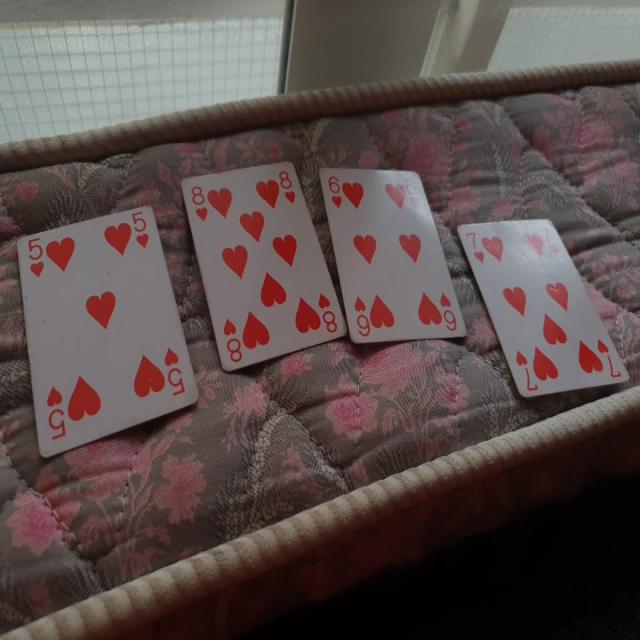5 Hearts: (13, 202, 200, 472)
6 Hearts: (312, 161, 473, 348)
7 Hearts: (453, 206, 636, 403)
8 Hearts: (179, 154, 352, 372)
